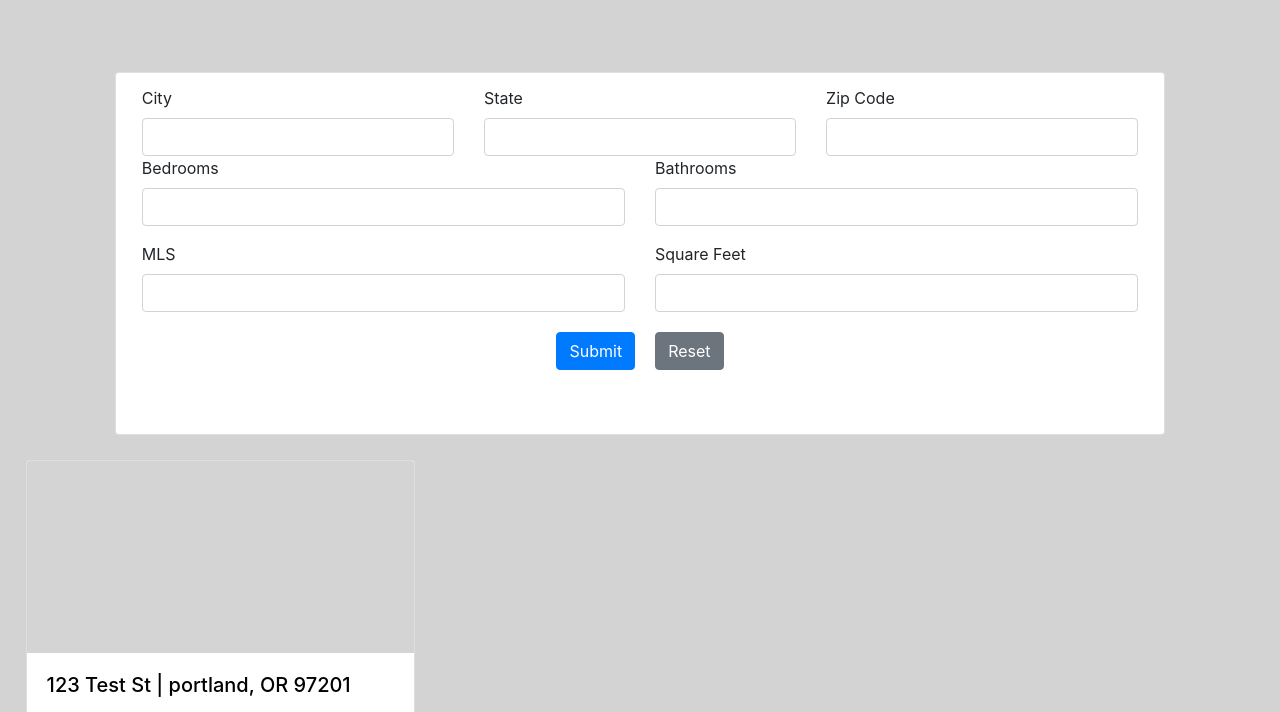
Test case: Search.jsx › should handle listings with null/missing numeric field values during filtering
Note: Enter criteria for numeric fields
Type "3" into the number field labelled "Bedrooms" at {"x": 383, "y": 207}, box [142,188,625,226]
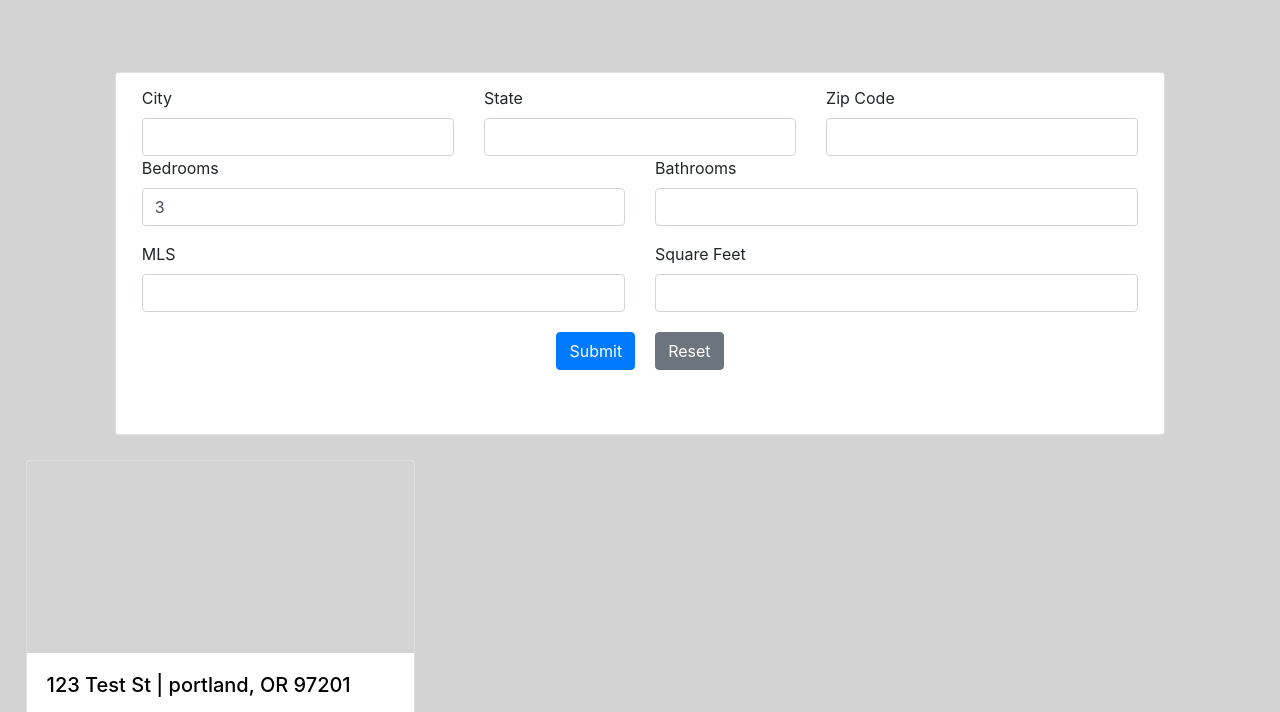
Type "2" into the number field labelled "Bathrooms" at {"x": 897, "y": 207}, box [655,188,1138,226]
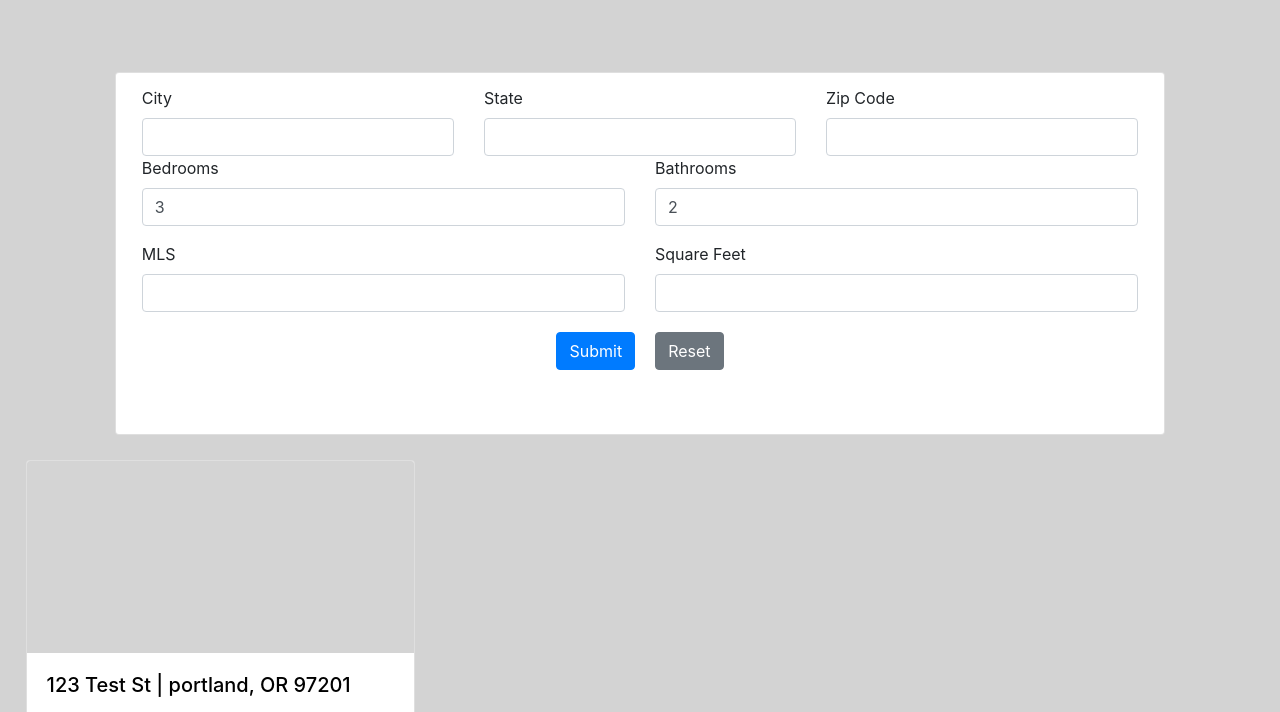
Type "1500" into the number field labelled "Square Feet" at {"x": 897, "y": 293}, box [655,274,1138,312]
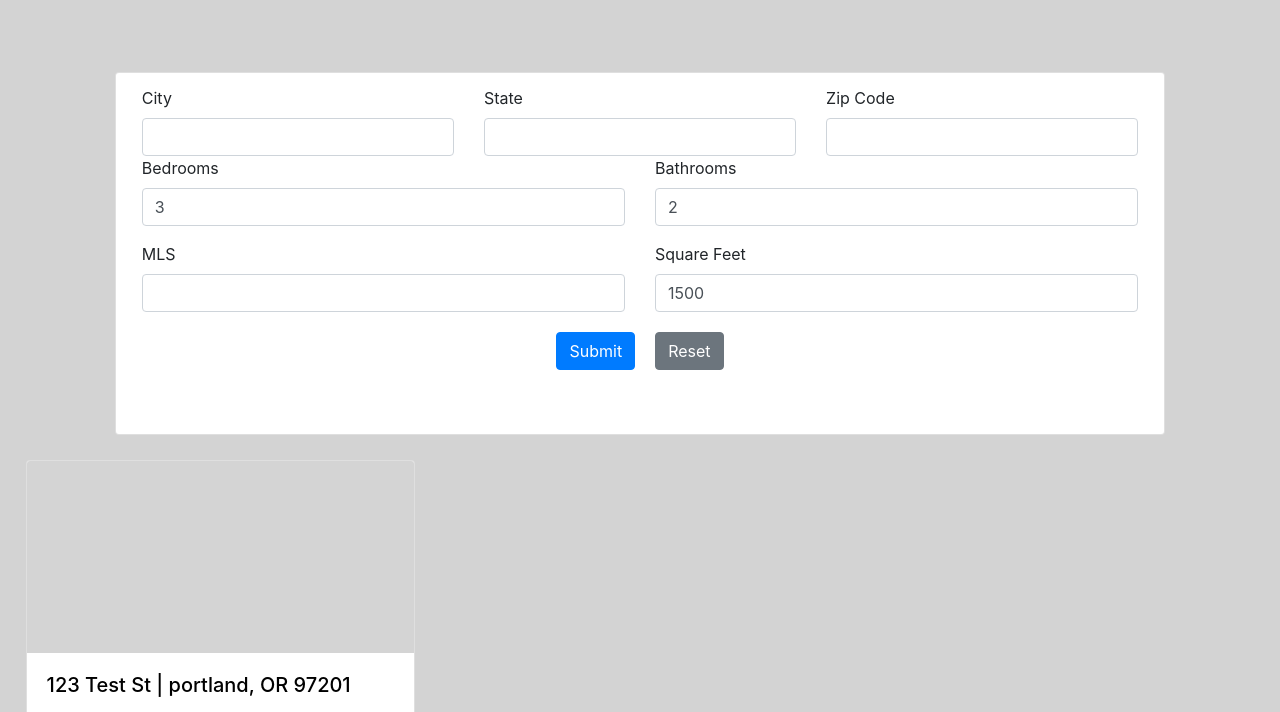
Note: Submit the form
Click the button "Submit" at {"x": 596, "y": 351}, box [556,332,635,370]
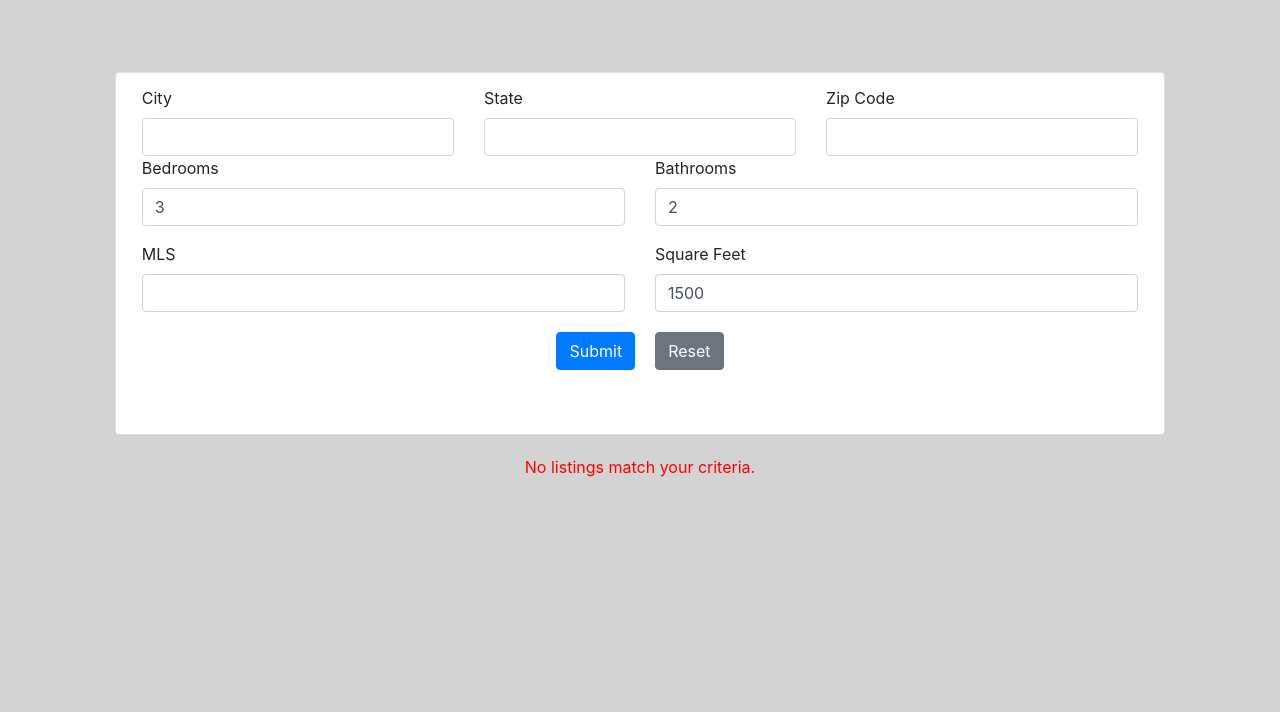
Result: the text "No listings match your criteria." is shown at [525,457,755,477]
